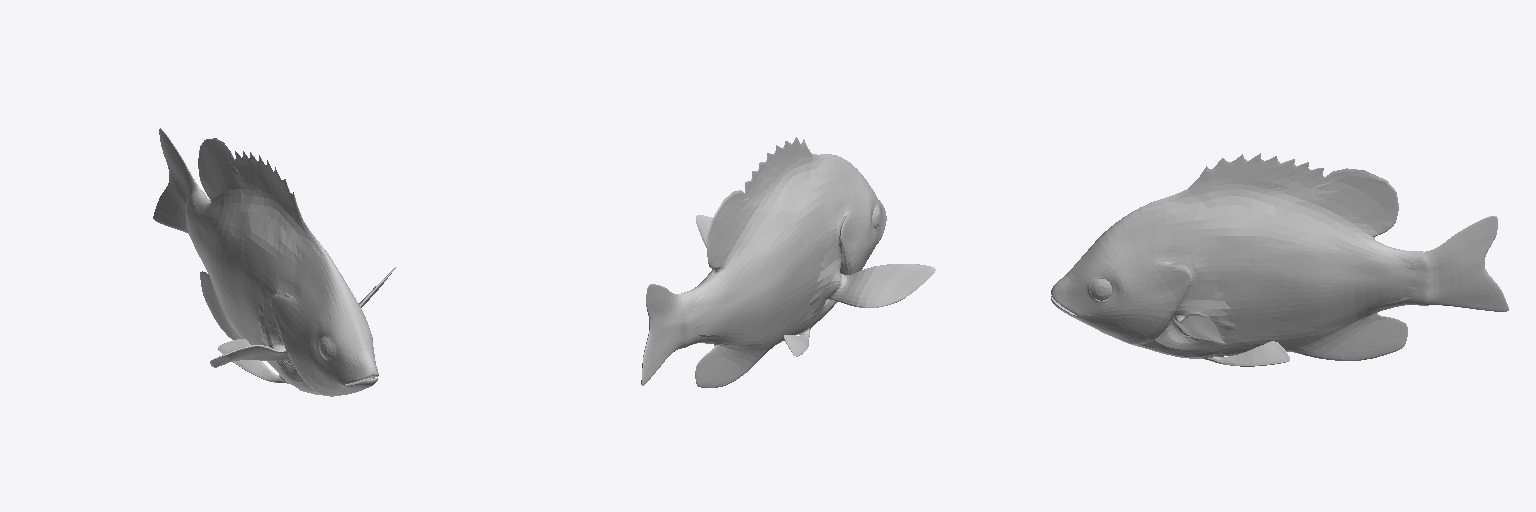
File: pez3.obj
The picture shows the model from 3 angles: view 1: azimuth 30°, elevation 25°; view 2: azimuth 150°, elevation 25°; view 3: azimuth 270°, elevation 25°; orthographic projection.
Parts seen in each view (by area): view 1: BG_Body_Plane.007; view 2: BG_Body_Plane.007; view 3: BG_Body_Plane.007.
Boxes of the visible parts, box(x1,y1,x2,y2) form: BG_Body_Plane.007: box(153, 128, 395, 396); BG_Body_Plane.007: box(641, 137, 935, 387); BG_Body_Plane.007: box(1051, 153, 1508, 366).
Bounding box in the file's own units: 0.1098 × 0.1023 × 0.2051.